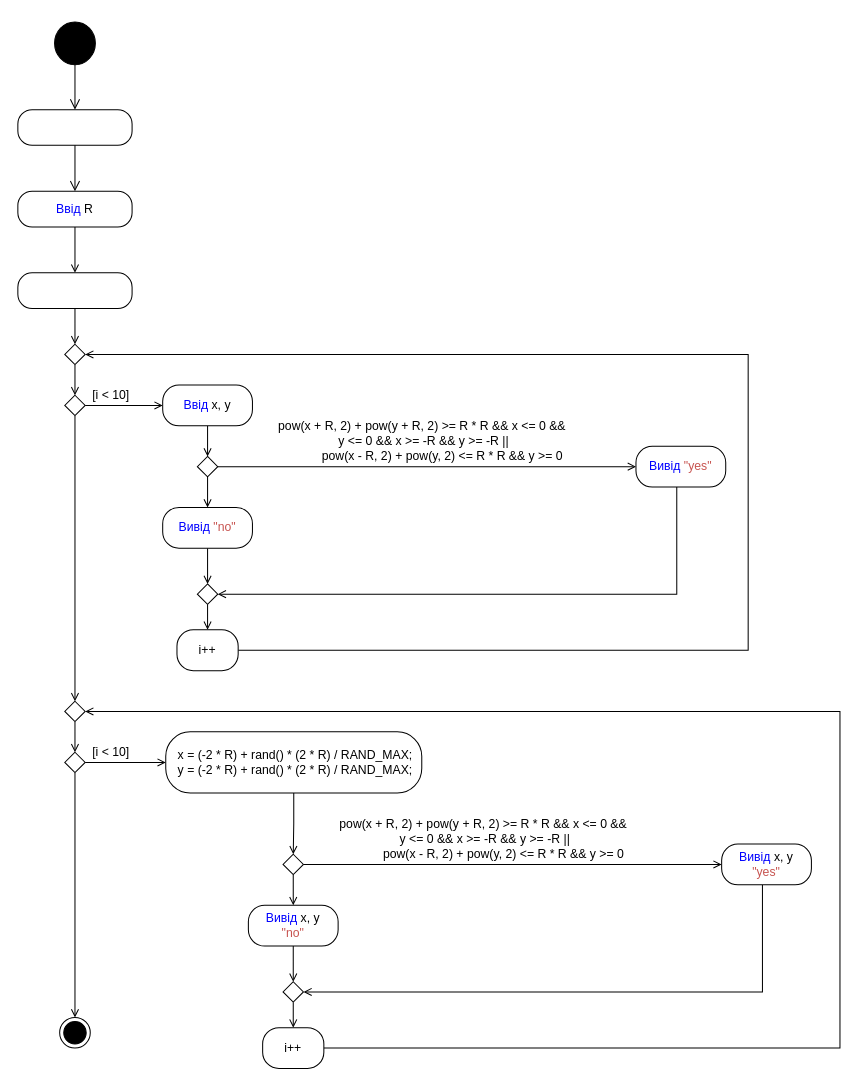
Some shapes in this 866 by 1086 pixel diagram are drawn without their labels. The shapes that lost their labels are listed below. From the top down, each one's centre as x and y in pixels, then its label:
At pixel 74 127: "srand(time(0))".
At pixel 74 290: "i = 0".
